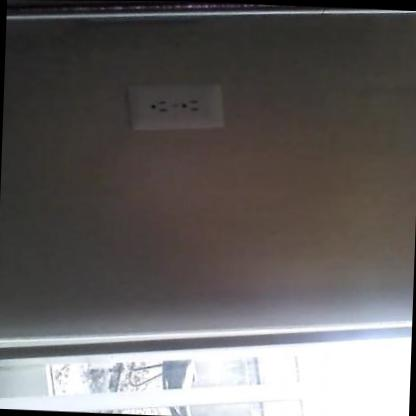OUTLET: (125, 79, 227, 135)
